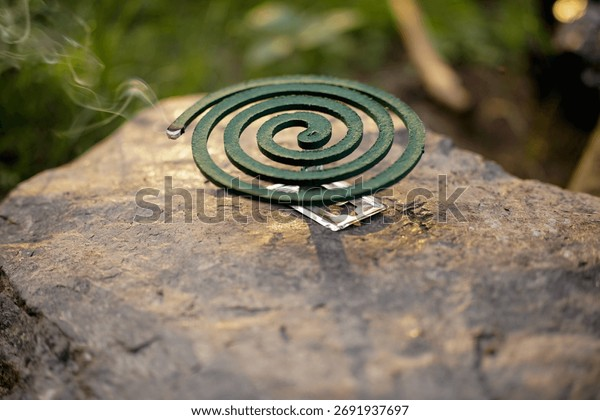Open-Flame-Hazard: (154, 53, 437, 243)
